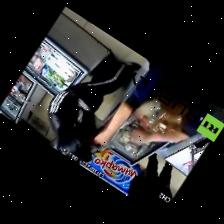person: (48, 62, 139, 161), (129, 60, 210, 143), (128, 153, 172, 213)
